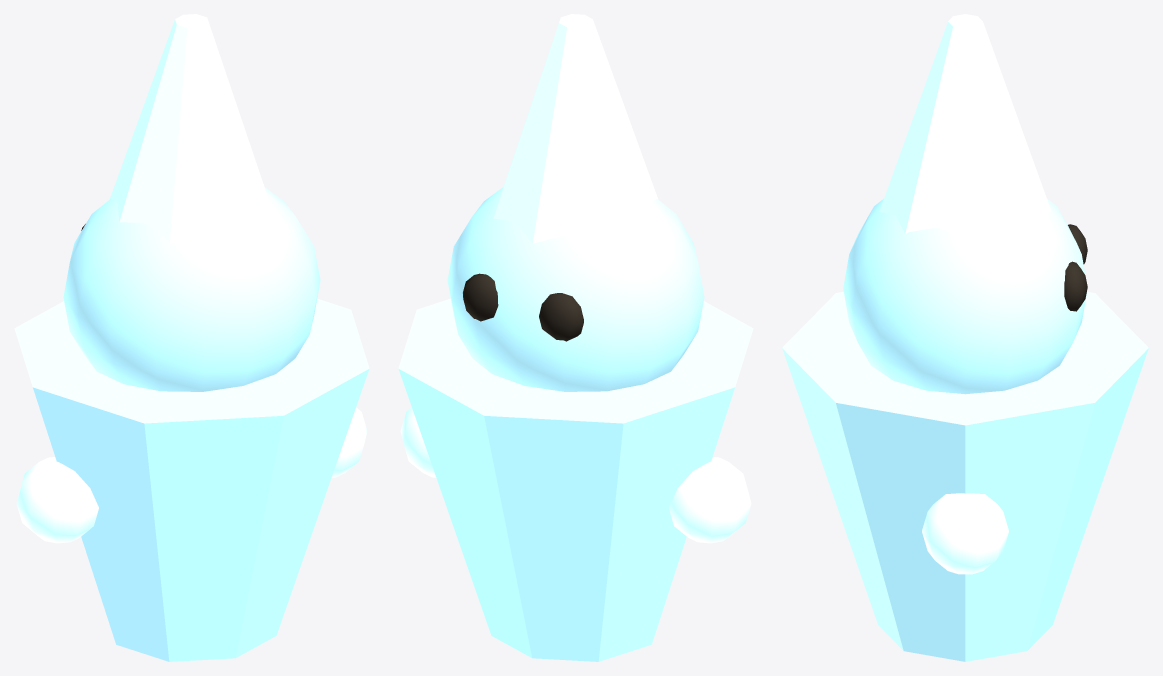
File: monster_frost_elf.glb
The picture shows the model from 3 angles, left to right: view 1: azimuth 30°, elevation 25°; view 2: azimuth 150°, elevation 25°; view 3: azimuth 270°, elevation 25°; orthographic projection.
Parts seen in each view (by area): view 1: monster_frost_elf_root; view 2: monster_frost_elf_root; view 3: monster_frost_elf_root.
Boxes of the visible parts, bbox=[...] form: monster_frost_elf_root: bbox=[14, 14, 369, 661]; monster_frost_elf_root: bbox=[398, 14, 753, 661]; monster_frost_elf_root: bbox=[782, 14, 1148, 661].
Size of the model in its own units: 1.05 by 1.8 by 0.9915.
